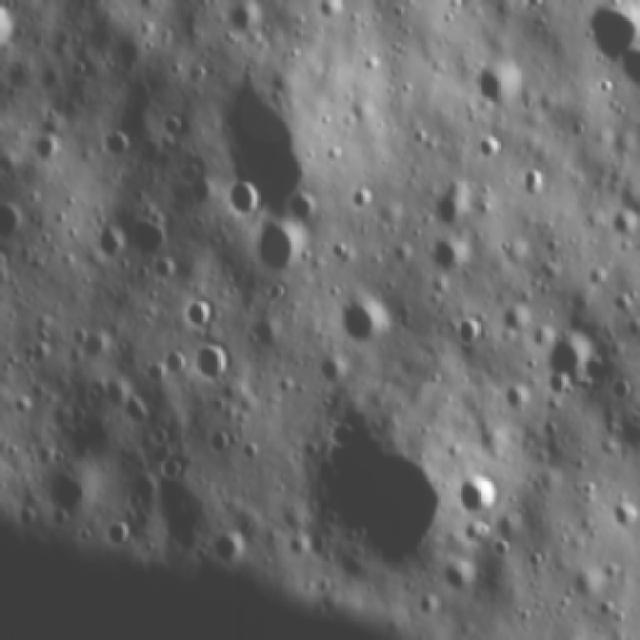crater: (282, 400, 461, 574), (22, 456, 101, 526), (241, 210, 313, 285), (540, 323, 608, 394), (583, 3, 639, 72), (446, 463, 508, 525), (336, 296, 402, 352), (122, 208, 182, 267), (473, 53, 529, 115), (427, 545, 484, 604), (406, 186, 469, 231), (185, 336, 242, 384), (222, 172, 266, 226), (448, 307, 494, 356), (429, 236, 476, 282), (69, 323, 114, 368), (180, 288, 220, 337), (207, 529, 256, 569), (224, 2, 265, 40), (498, 378, 537, 417), (310, 347, 348, 387), (608, 491, 638, 537), (27, 127, 64, 164), (468, 128, 506, 164), (160, 341, 192, 382), (100, 126, 135, 162), (520, 163, 551, 200), (103, 517, 135, 552), (316, 2, 346, 24)
